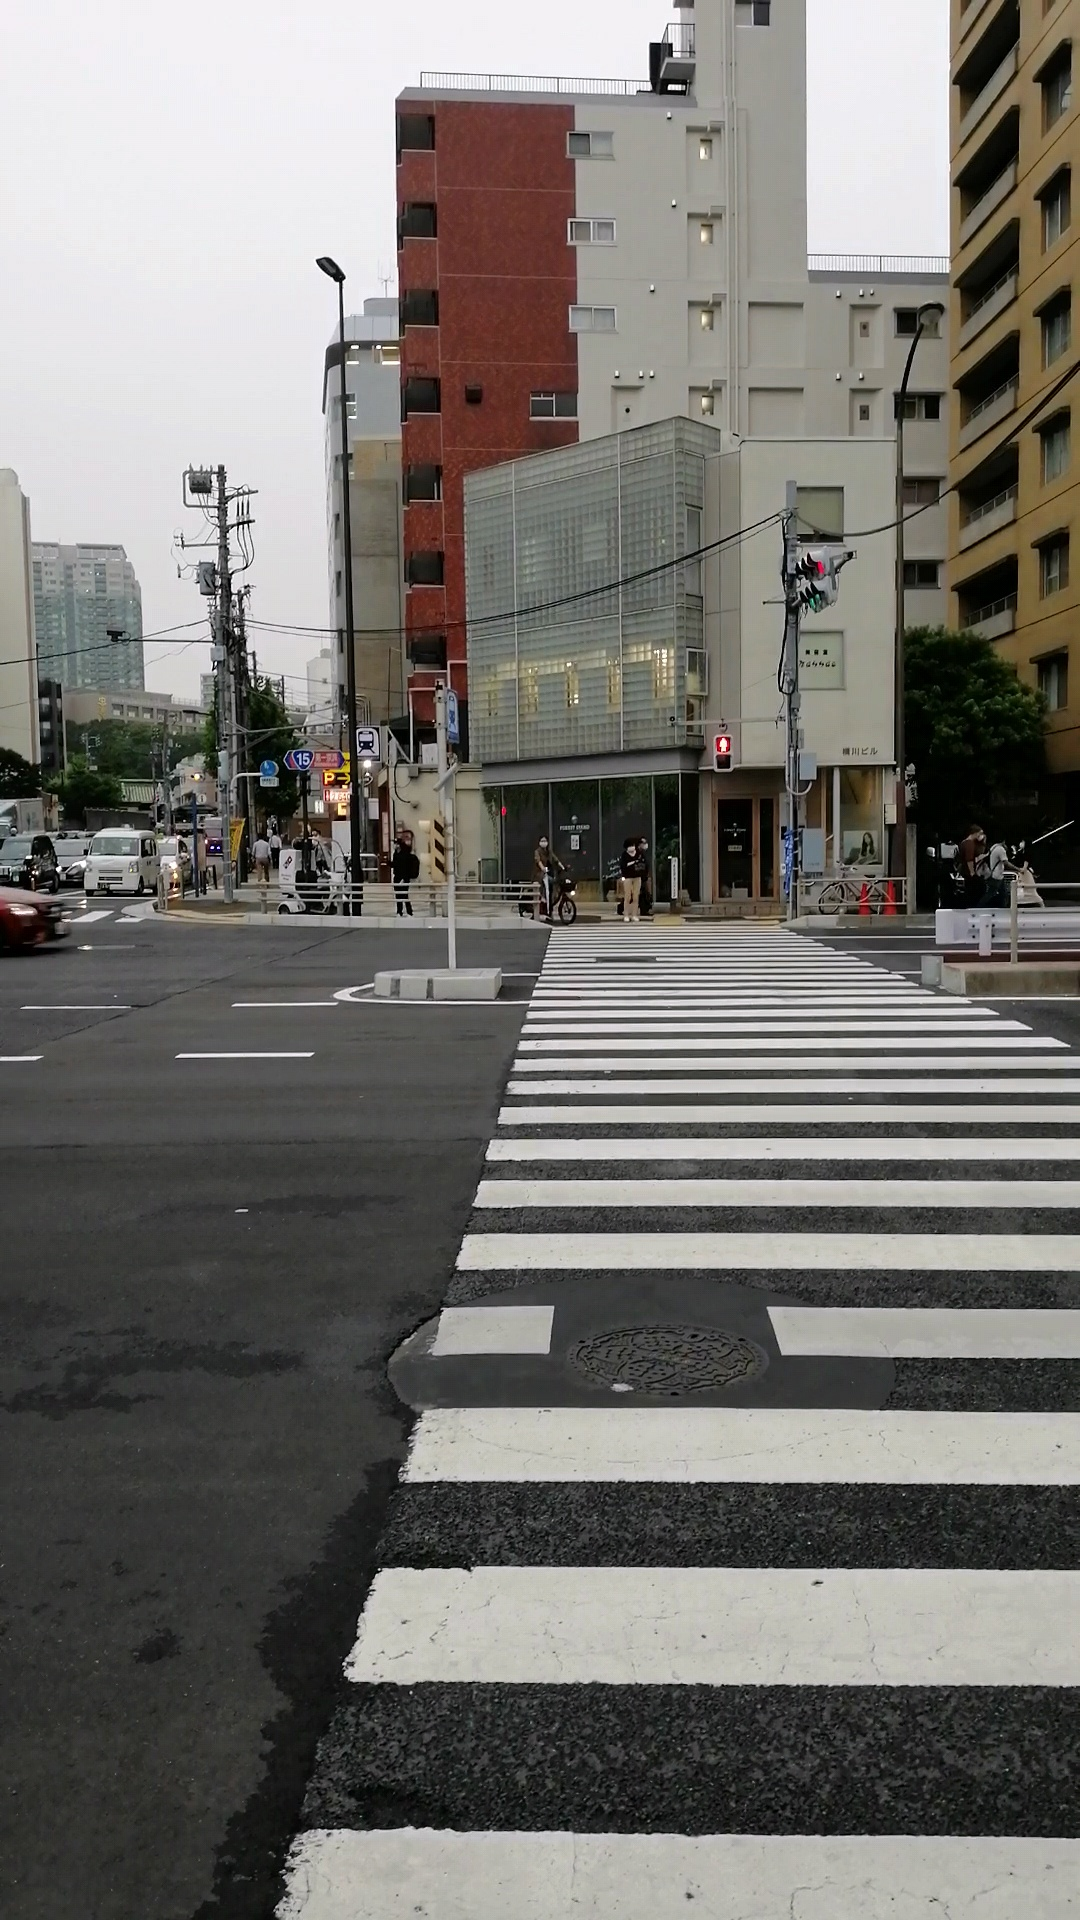red: (711, 733, 733, 773)
